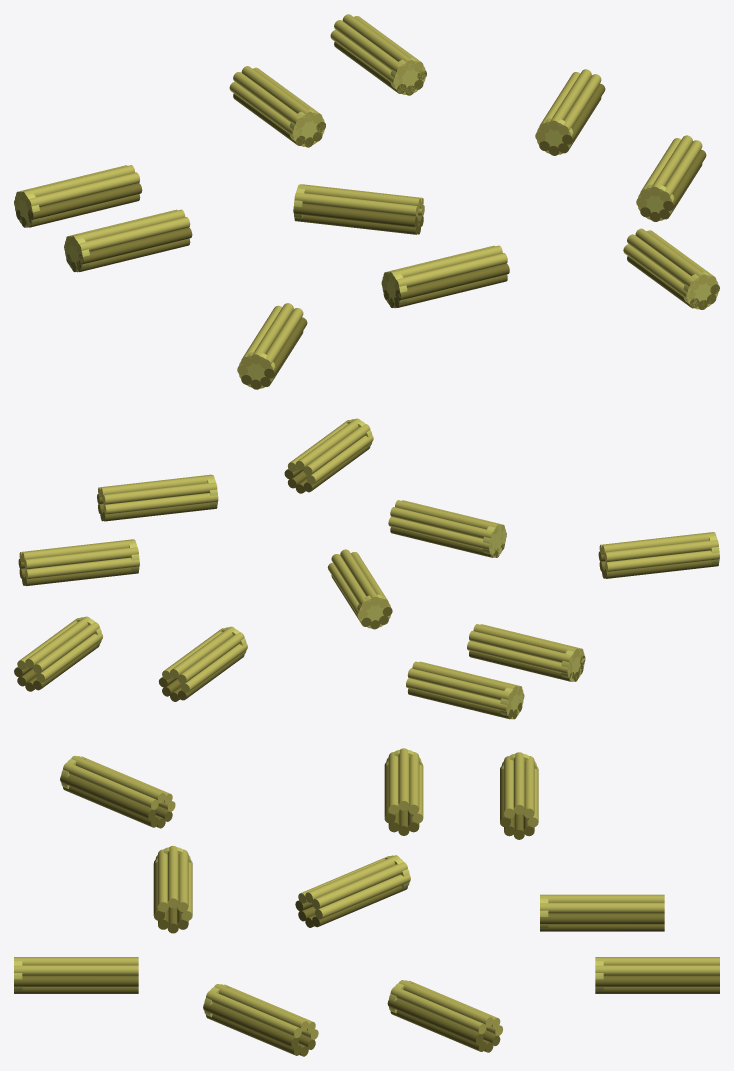
File: CMU3DMaterialLeisureSpentCasings4Cloud.glb
3 views of the same model, one above another, from view 1: azimuth 30°, elevation 25°; view 2: azimuth 150°, elevation 25°; view 3: azimuth 270°, elevation 25° (orthographic). The views are drawn at different scales.
Parts seen in each view (by area): view 1: spent case 4 thin wall 3, spent case 4 thin wall 4, spent case 0 thin wall 3, spent case 1 thin wall 3, spent case 8 thin wall 3, spent case 8 thin wall 4, spent case 0 thin wall 4, spent case 1 thin wall 4, spent case 4 thin wall 2, spent case 1 thin wall 2, spent case 0 thin wall 2, spent case 8 thin wall 2 (+23 smaller); view 2: spent case 5 thin wall 1, spent case 6 thin wall 1, spent case 9 thin wall 1, spent case 6 thin wall 0, spent case 9 thin wall 0, spent case 5 thin wall 0, spent case 0 thin wall 1, spent case 1 thin wall 1, spent case 8 thin wall 1, spent case 0 thin wall 0, spent case 1 thin wall 0, spent case 8 thin wall 0 (+25 smaller); view 3: spent case 2 thin wall 3, spent case 2 thin wall 4, spent case 3 thin wall 3, spent case 3 thin wall 4, spent case 7 thin wall 3, spent case 7 thin wall 4, spent case 5 thin wall 3, spent case 4 thin wall 1, spent case 9 thin wall 3, spent case 6 thin wall 3, spent case 5 thin wall 4, spent case 9 thin wall 4 (+25 smaller).
Part boxes in pixels (x1,y1,x2,y2): spent case 4 thin wall 3: (294,192,418,216); spent case 4 thin wall 4: (293,204,417,227); spent case 0 thin wall 3: (26,172,139,209); spent case 1 thin wall 3: (76,217,190,253); spent case 8 thin wall 3: (394,253,507,290); spent case 8 thin wall 4: (395,263,509,300); spent case 0 thin wall 4: (28,183,142,219); spent case 1 thin wall 4: (78,227,192,263); spent case 4 thin wall 2: (297,184,420,208); spent case 1 thin wall 2: (71,209,185,246); spent case 0 thin wall 2: (21,165,135,201); spent case 8 thin wall 2: (388,245,502,282); spent case 5 thin wall 1: (24,547,138,569); spent case 6 thin wall 1: (102,482,217,504); spent case 9 thin wall 1: (604,540,718,562); spent case 6 thin wall 0: (103,493,218,514); spent case 9 thin wall 0: (605,550,719,572); spent case 5 thin wall 0: (25,557,139,579); spent case 0 thin wall 1: (407,668,513,702); spent case 1 thin wall 1: (469,631,574,664); spent case 8 thin wall 1: (390,507,495,538); spent case 0 thin wall 0: (406,678,511,712); spent case 1 thin wall 0: (467,640,572,674); spent case 8 thin wall 0: (388,516,492,550); spent case 2 thin wall 3: (540,902,664,913); spent case 2 thin wall 4: (540,913,664,924); spent case 3 thin wall 3: (595,965,719,975); spent case 3 thin wall 4: (595,976,719,986); spent case 7 thin wall 3: (14,965,138,975); spent case 7 thin wall 4: (14,976,138,986); spent case 5 thin wall 3: (390,987,486,1034); spent case 4 thin wall 1: (312,862,407,909); spent case 9 thin wall 3: (63,762,158,809); spent case 6 thin wall 3: (206,991,301,1037); spent case 5 thin wall 4: (387,999,483,1044); spent case 9 thin wall 4: (60,775,155,819).
Bounding box in the file's own units: 0.7151 × 0.042 × 0.765.
